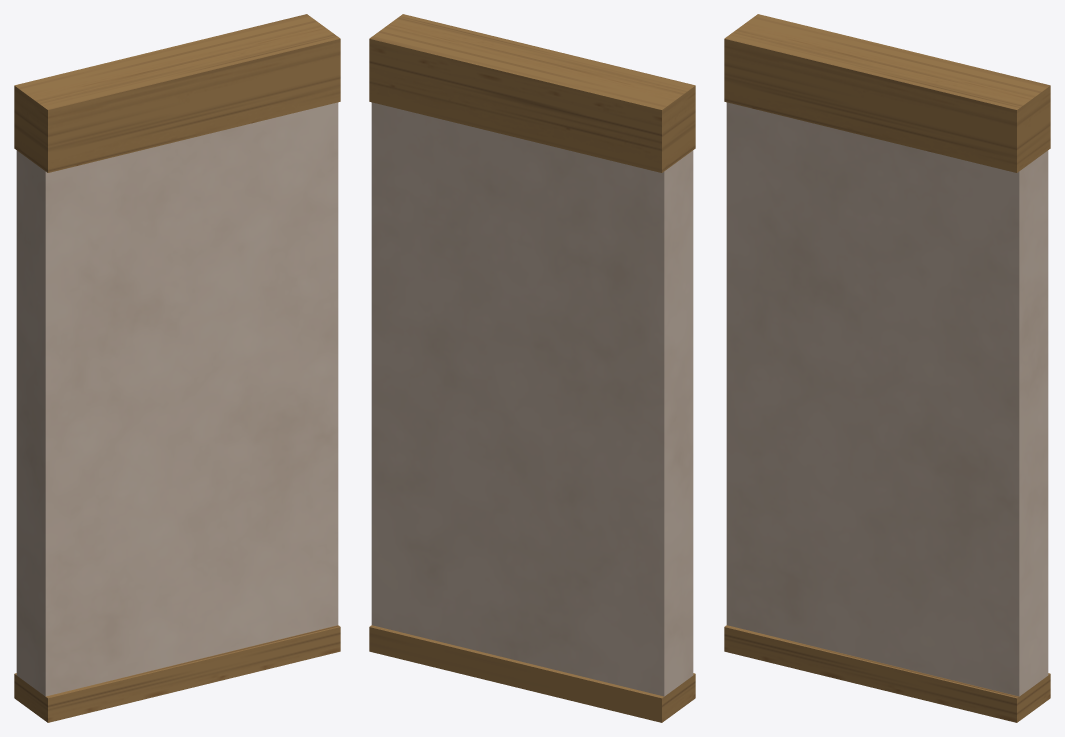
Rendered from wall.fbx.
3 renders of one model, left to right at view 1: azimuth 30°, elevation 25°; view 2: azimuth 150°, elevation 25°; view 3: azimuth 330°, elevation 25°, orthographic.
Parts seen in each view (by area): view 1: Cube.240; view 2: Cube.240; view 3: Cube.240.
Part boxes in pixels (x1,y1,x2,y2): Cube.240: (14, 14, 340, 722); Cube.240: (369, 14, 695, 722); Cube.240: (724, 14, 1050, 722).
Bounding box in the file's own units: 100 × 200 × 20.
